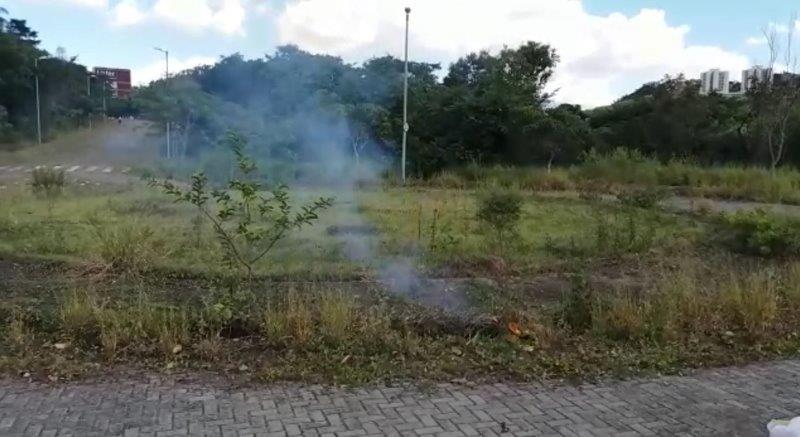smoke: (302, 134, 356, 207)
